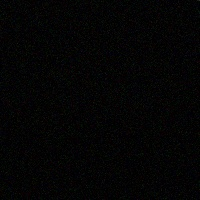chromosome: (184, 0, 200, 3)
